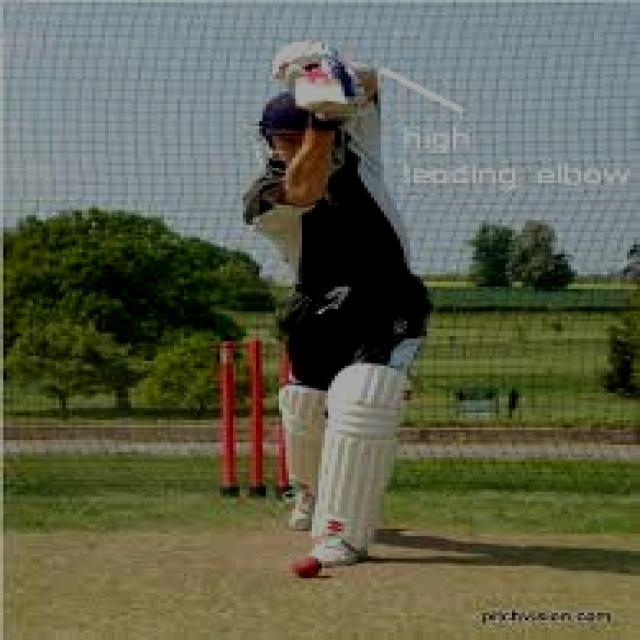bat: (289, 71, 355, 119)
toe: (301, 98, 349, 112)
